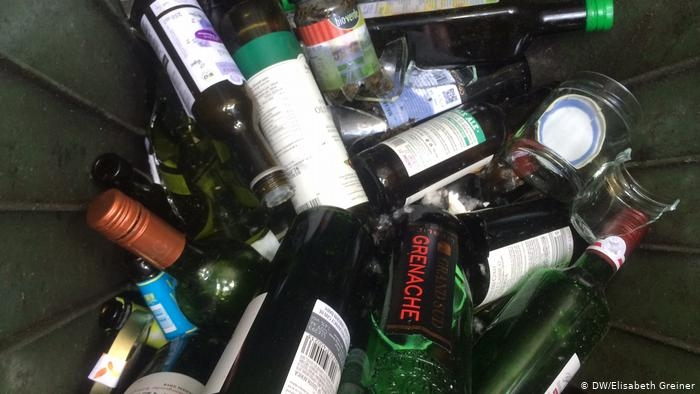glass: (437, 206, 656, 394), (123, 1, 304, 208), (200, 203, 387, 394), (89, 183, 272, 330), (332, 80, 546, 204), (353, 1, 620, 73), (366, 194, 462, 394), (522, 58, 636, 192), (559, 141, 689, 248), (290, 1, 386, 109), (350, 32, 418, 106)
